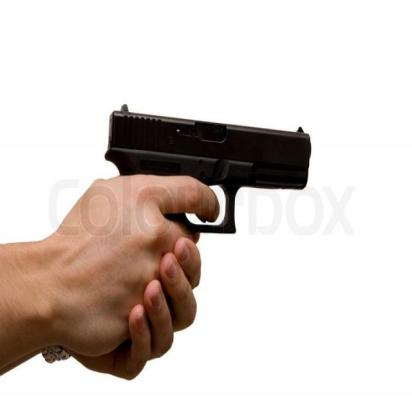Gun: (103, 100, 315, 346)
